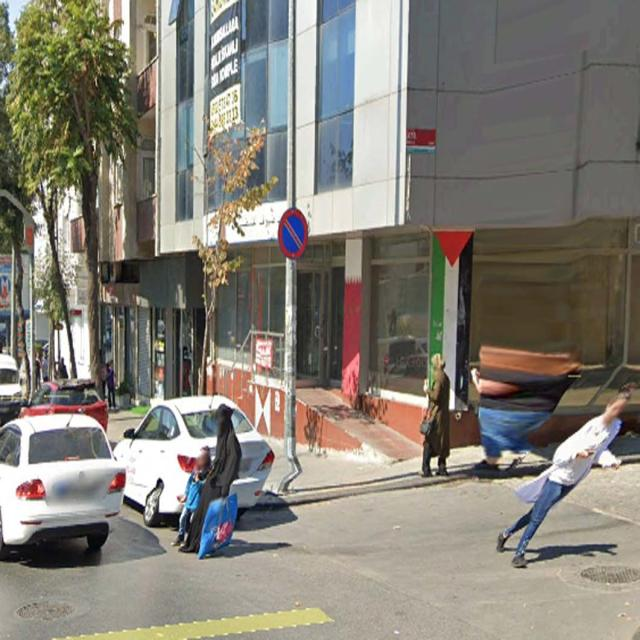parkyasak: (278, 210, 308, 258)
